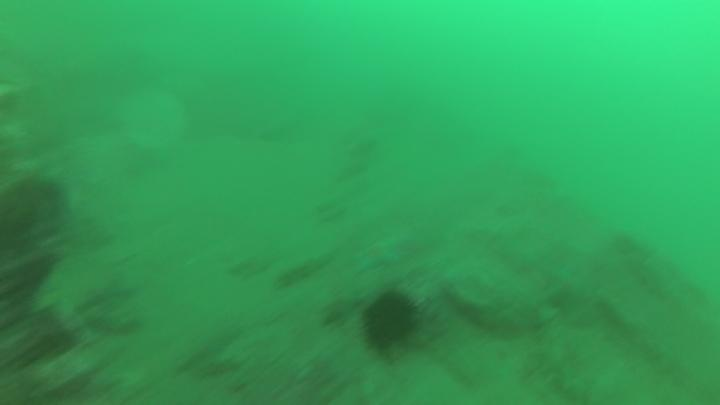echinus: (365, 291, 419, 349)
holothurian: (274, 254, 330, 290)
starfish: (352, 240, 401, 271)
